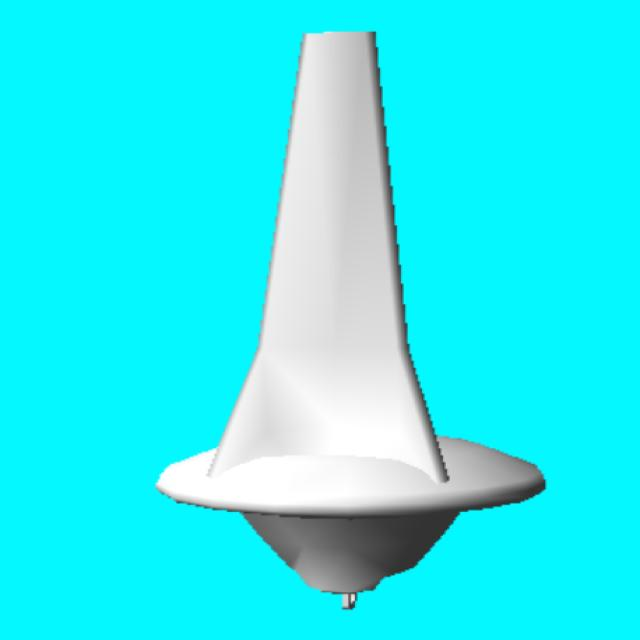WhiteBuoy: (157, 32, 544, 608)
